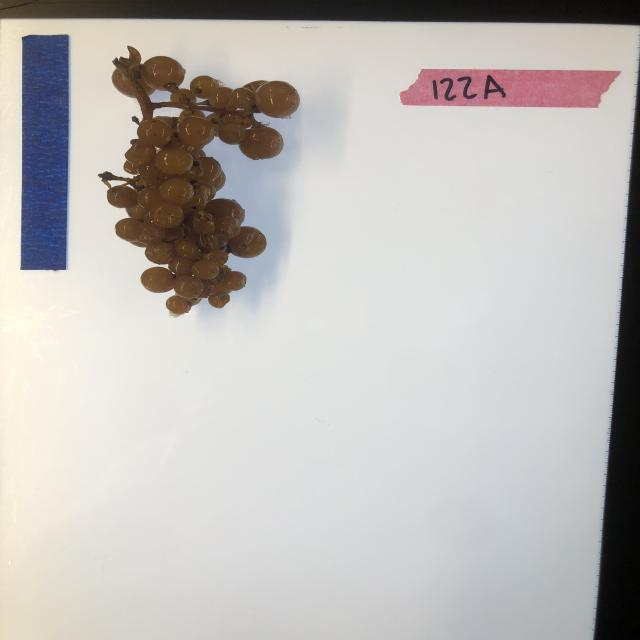grape_cluster: (94, 44, 302, 321)
index: (397, 66, 622, 109)
measure_label: (20, 33, 68, 273)
